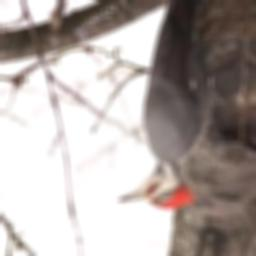Woodpecker: (113, 0, 220, 209)
